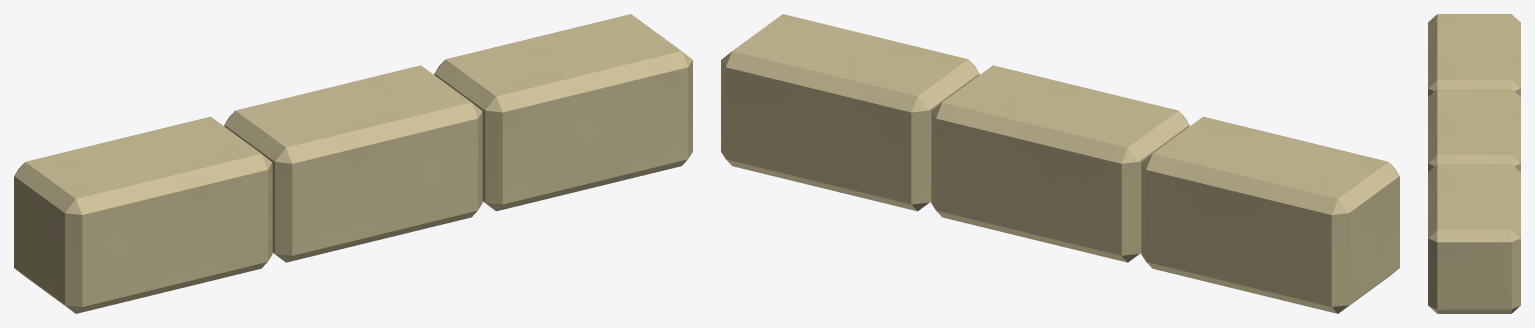
Rendered from WarrensC_WVC008_BoneCoping200_Mars_SM.fbx.
3 views of the same model, side by side, from view 1: azimuth 30°, elevation 25°; view 2: azimuth 150°, elevation 25°; view 3: azimuth 270°, elevation 25° (orthographic). The views are drawn at different scales.
Visible parts, largest first — view 1: WarrensC_WVC008_BoneCoping200_Mars_SM.001; view 2: WarrensC_WVC008_BoneCoping200_Mars_SM.001; view 3: WarrensC_WVC008_BoneCoping200_Mars_SM.001.
Part boxes in pixels (x1,y1,x2,y2): WarrensC_WVC008_BoneCoping200_Mars_SM.001: (14,14,692,313); WarrensC_WVC008_BoneCoping200_Mars_SM.001: (721,14,1399,313); WarrensC_WVC008_BoneCoping200_Mars_SM.001: (1428,14,1520,313).
Bounding box in the file's own units: 200 × 35 × 35.
